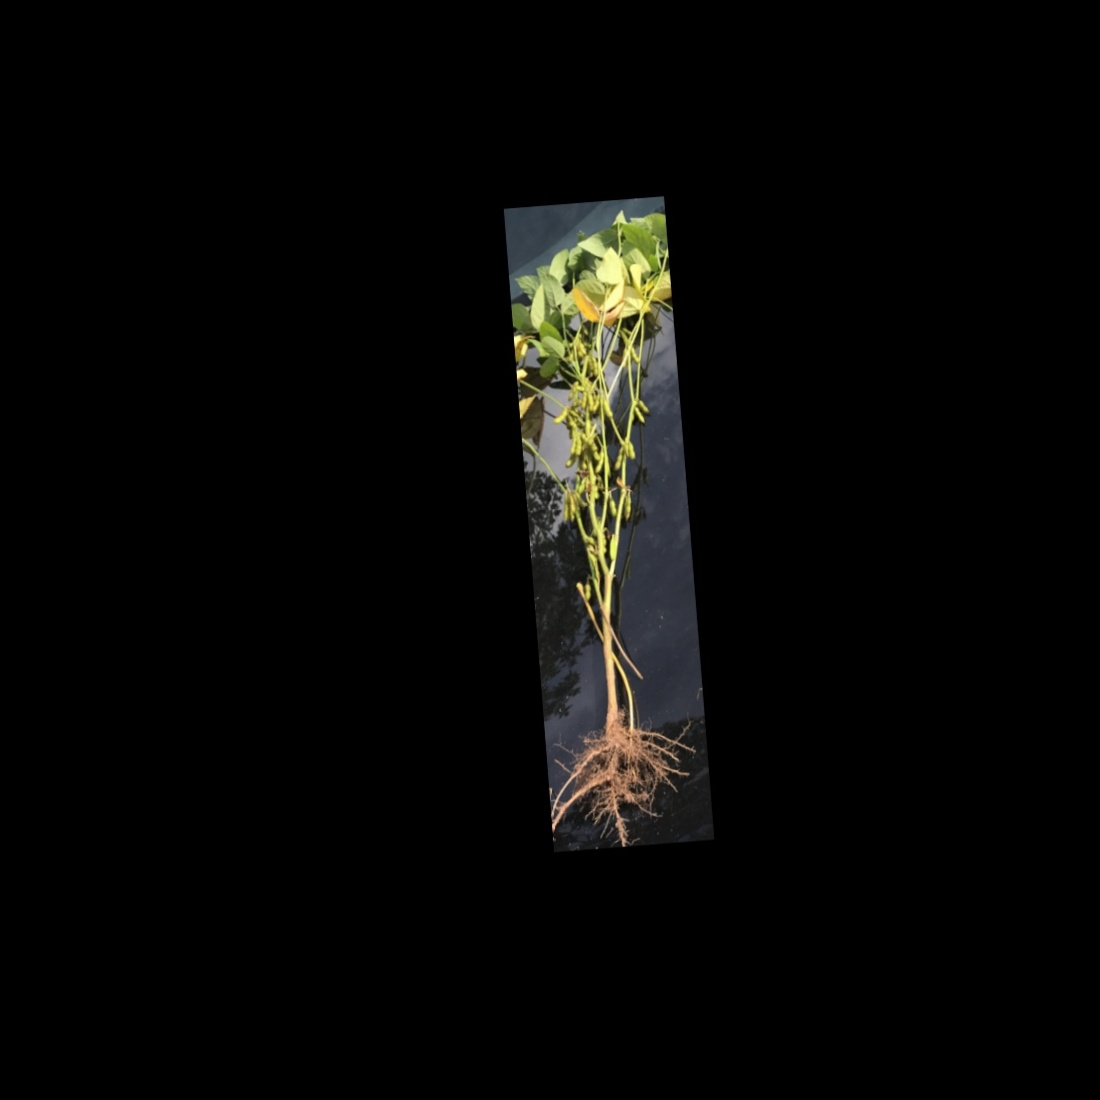pod: (549, 404, 571, 425), (610, 444, 627, 471), (591, 447, 605, 476), (571, 432, 586, 458), (621, 491, 633, 523), (632, 403, 647, 428), (627, 343, 641, 366), (589, 355, 600, 379), (583, 580, 593, 605)
soy: (514, 253, 709, 814)
